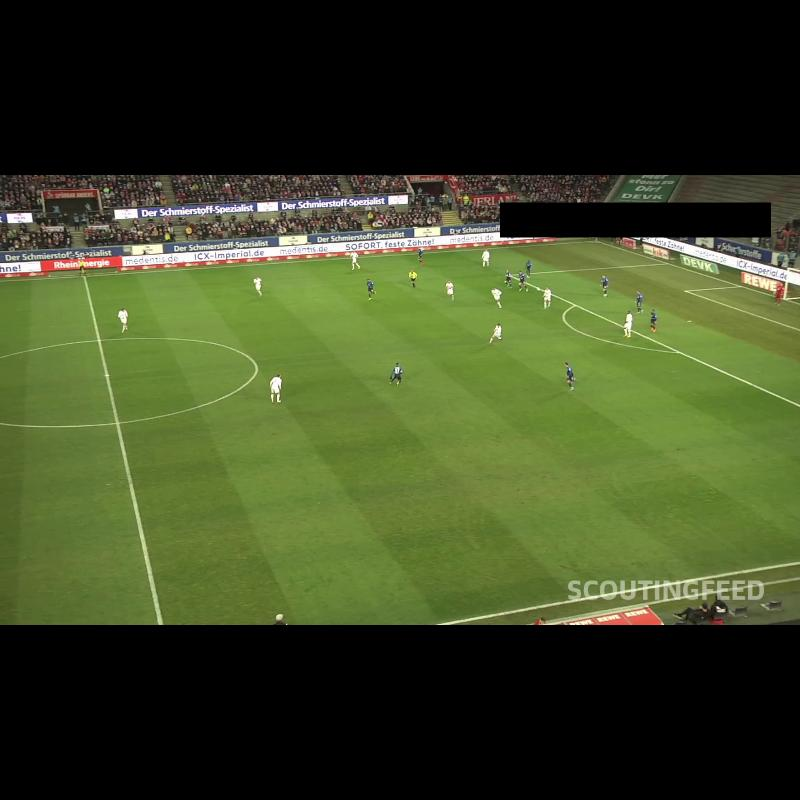cross_recipient_zone: (507, 263, 800, 407)
crossing_player_zone: (660, 425, 800, 539), (350, 241, 667, 284)
pitch: (0, 241, 800, 625)
